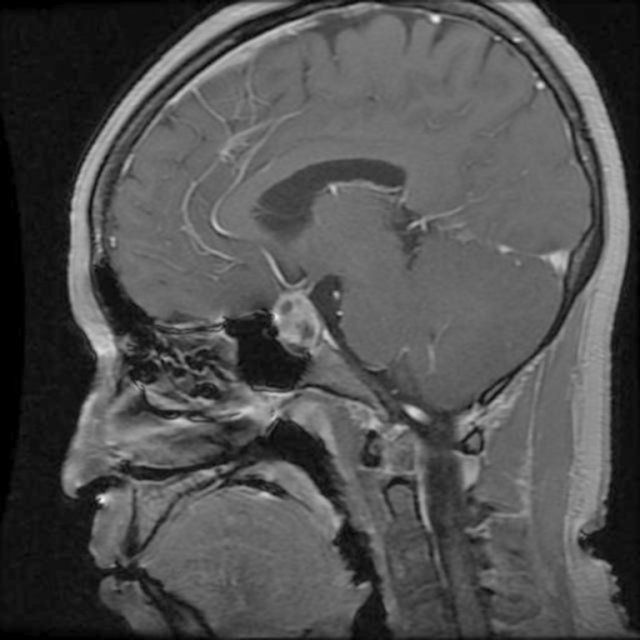no tumor: (264, 280, 328, 359)
